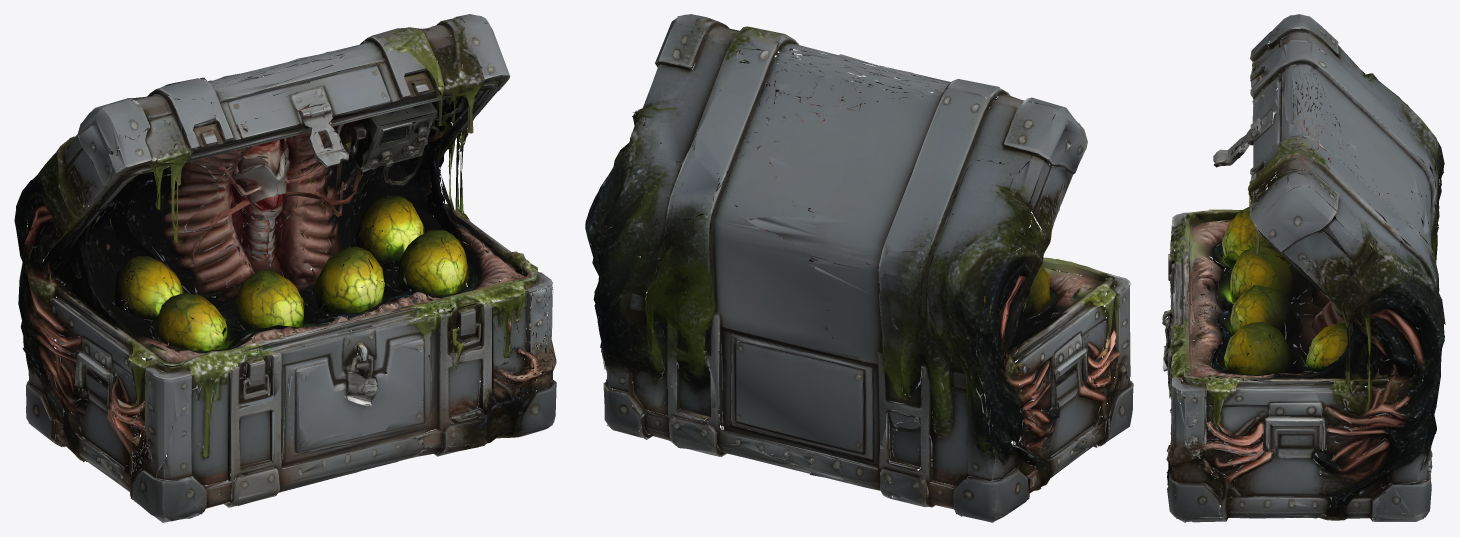
Rendered from tina_covert_nursery_chest.glb.
The picture shows the model from 3 angles, left to right: view 1: azimuth 30°, elevation 25°; view 2: azimuth 150°, elevation 25°; view 3: azimuth 270°, elevation 25°; orthographic projection. The views are drawn at different scales.
Parts seen in each view (by area): view 1: node_0; view 2: node_0; view 3: node_0.
Part boxes in pixels (x1=…): node_0: x1=14, y1=14, x2=556, y2=522; node_0: x1=585, y1=14, x2=1133, y2=522; node_0: x1=1162, y1=14, x2=1445, y2=522.
Size of the model in its own units: 0.8856 by 0.7523 by 0.5596.
1 material, 1 textured.
